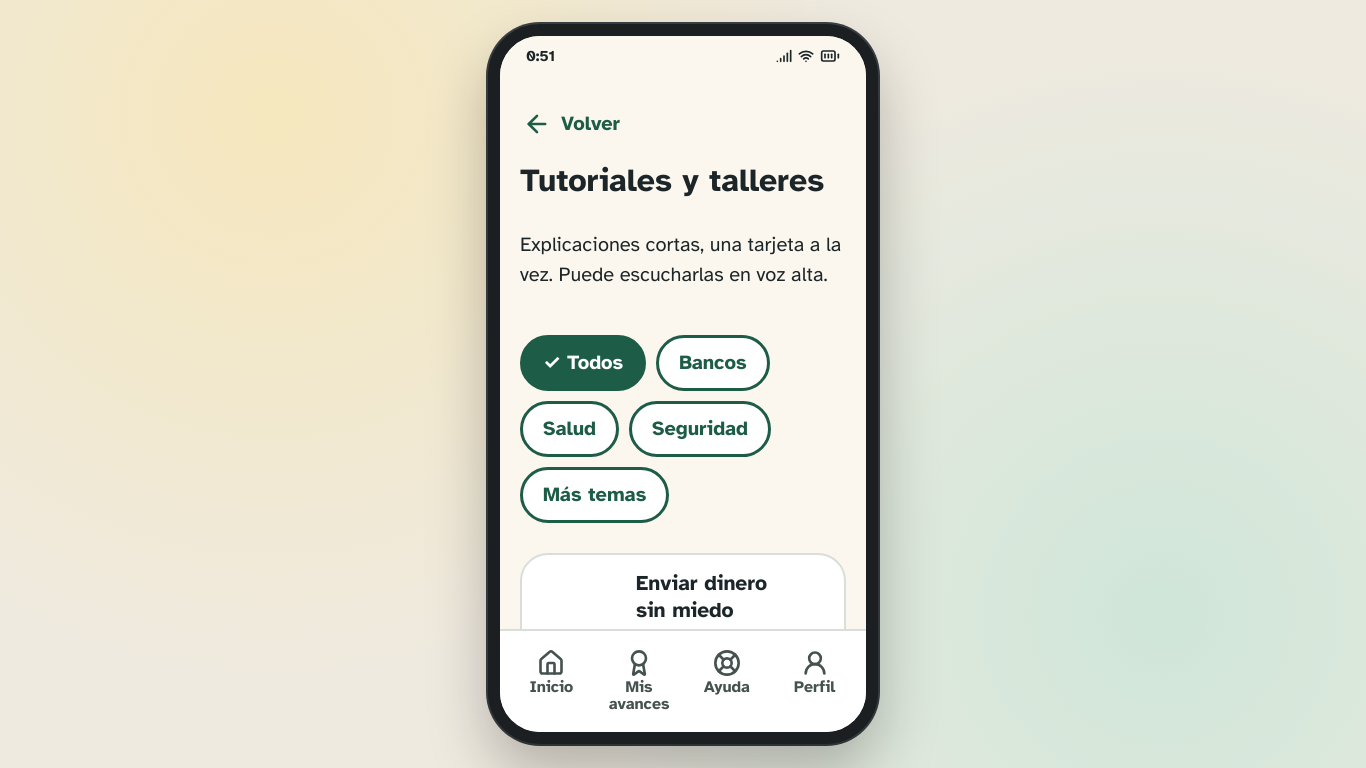
Test: pantalla 6: talleres › lista los 8 talleres con duración y nivel, y filtra
Step 1. Click the button "Seguridad" → [700, 429], box [629,401,771,457]
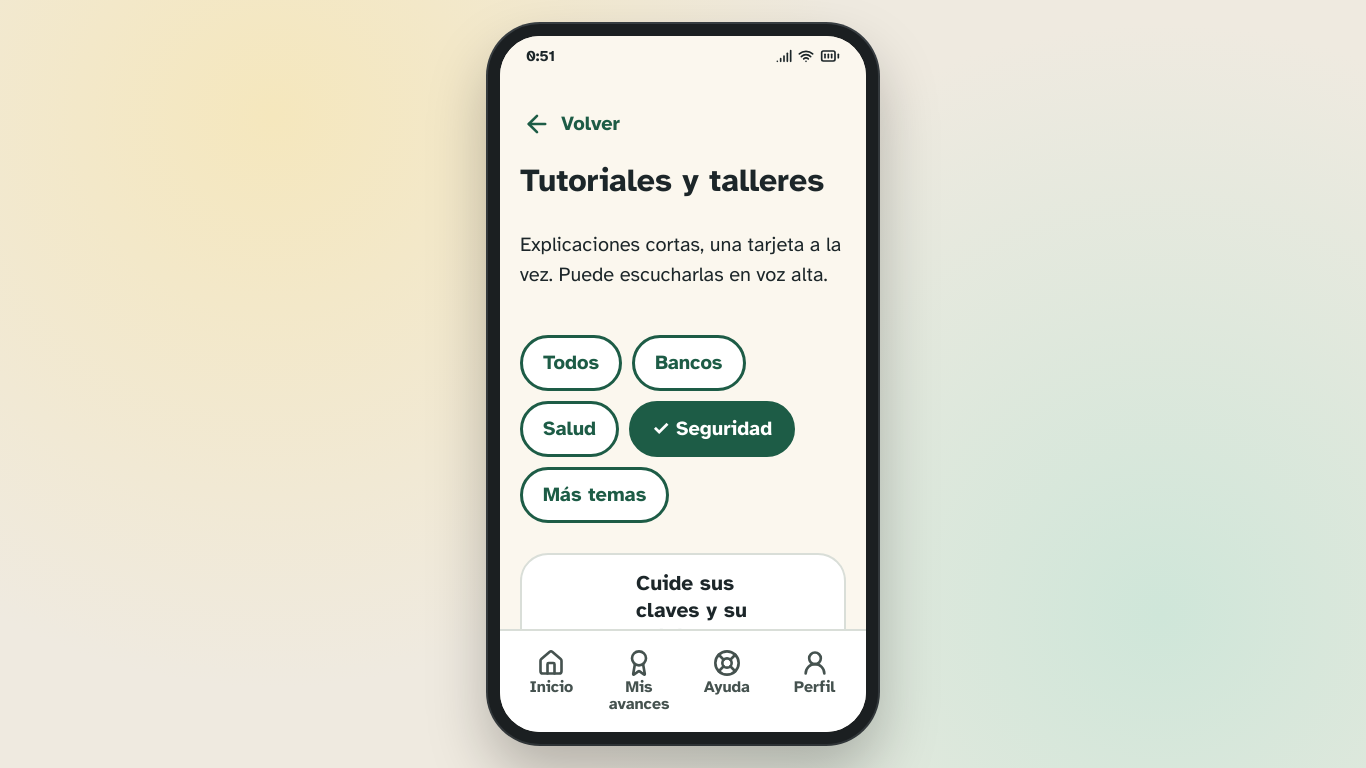
Step 2. Click the button "Salud" → [570, 429], box [520,401,619,457]
(page scrolled)
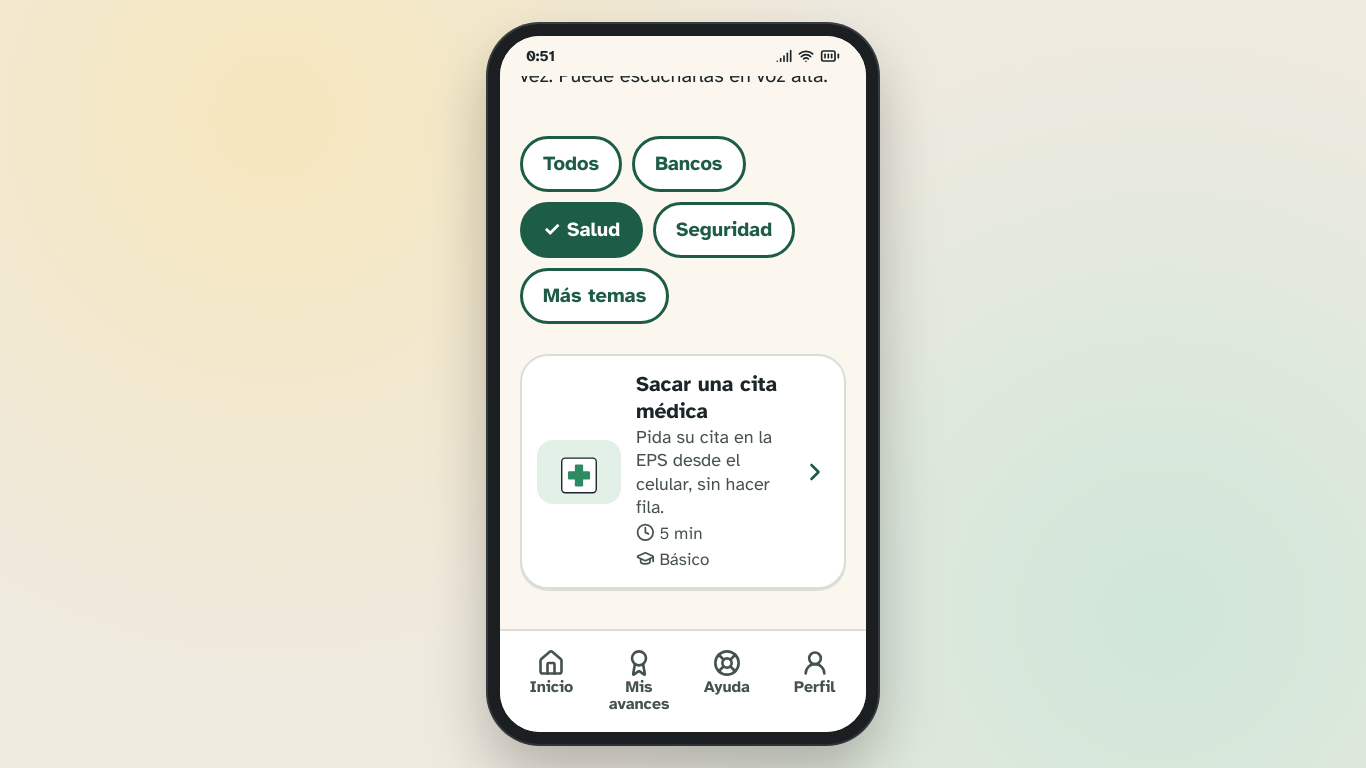
expect the link "Sacar una cita médica" is shown: met, box [520,354,846,590]
